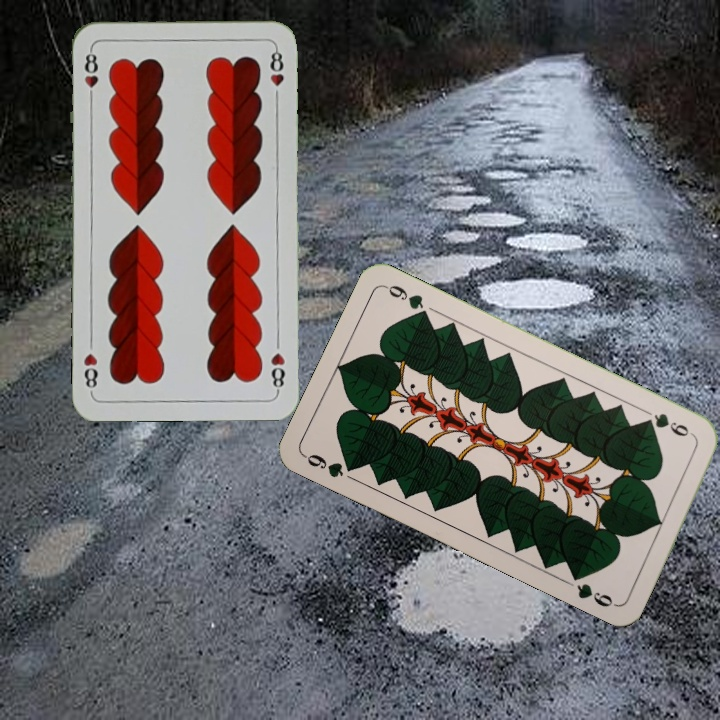G9: (640, 409, 698, 441), (300, 450, 360, 480)
H8: (81, 46, 101, 105), (266, 349, 287, 394)
